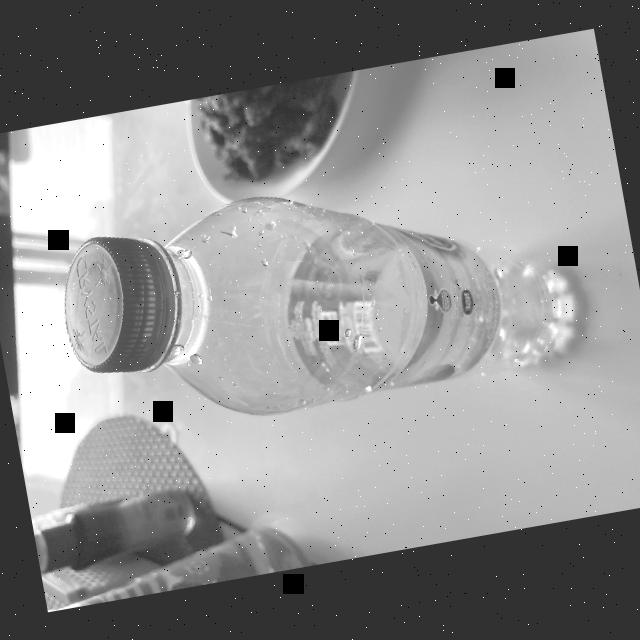plastic_bottle: (48, 138, 588, 452)
